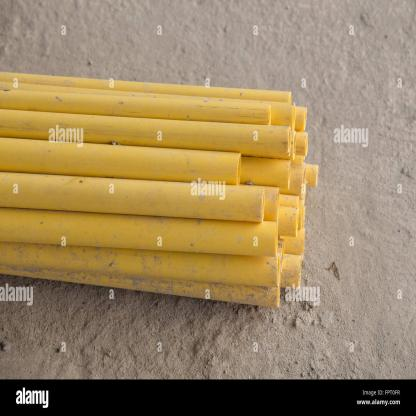PVC: (0, 71, 320, 306)
